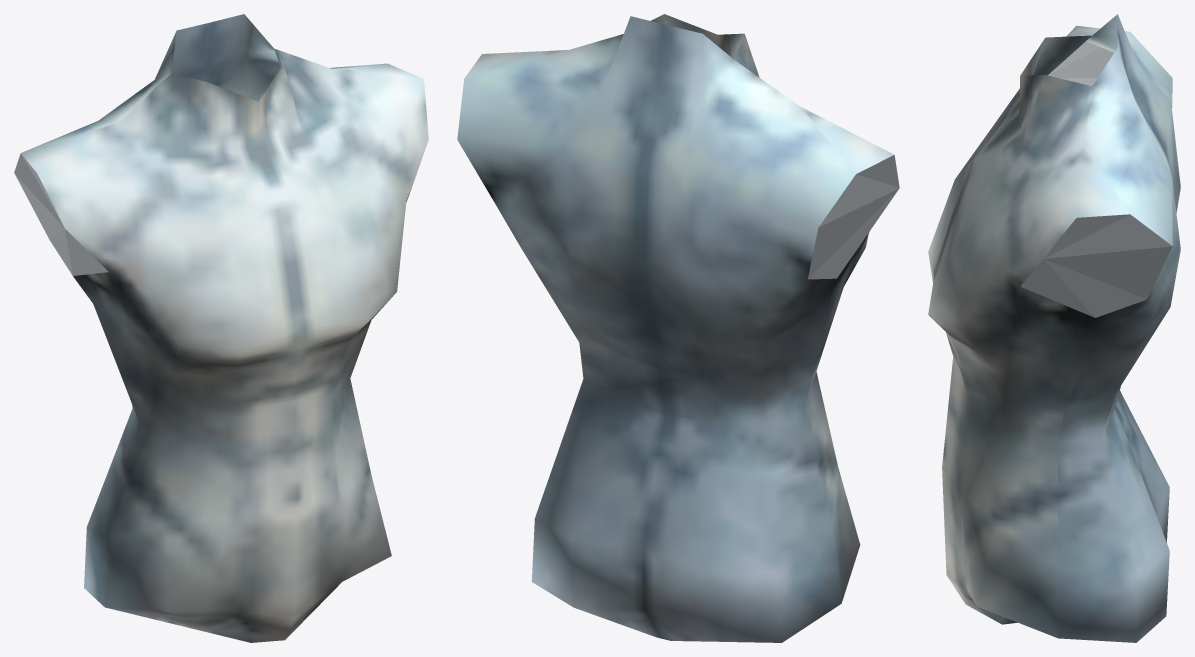
The model's file is Minos_Body.obj.
3 views of the same model, side by side, from view 1: azimuth 30°, elevation 25°; view 2: azimuth 150°, elevation 25°; view 3: azimuth 270°, elevation 25° (orthographic). The views are drawn at different scales.
Visible parts, largest first — view 1: Minos_Body; view 2: Minos_Body; view 3: Minos_Body.
Part boxes in pixels (x1=…): Minos_Body: x1=14, y1=14, x2=428, y2=642; Minos_Body: x1=457, y1=14, x2=899, y2=642; Minos_Body: x1=928, y1=14, x2=1180, y2=642.
Bounding box in the file's own units: 0.3176 × 0.4517 × 0.1765.
Materials: 1 (1 with a texture image).
